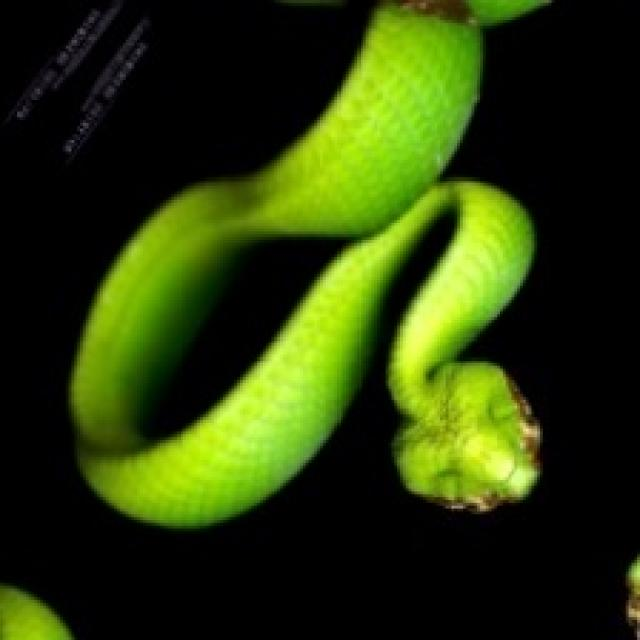north ph temple pitviper: (71, 0, 543, 526)
